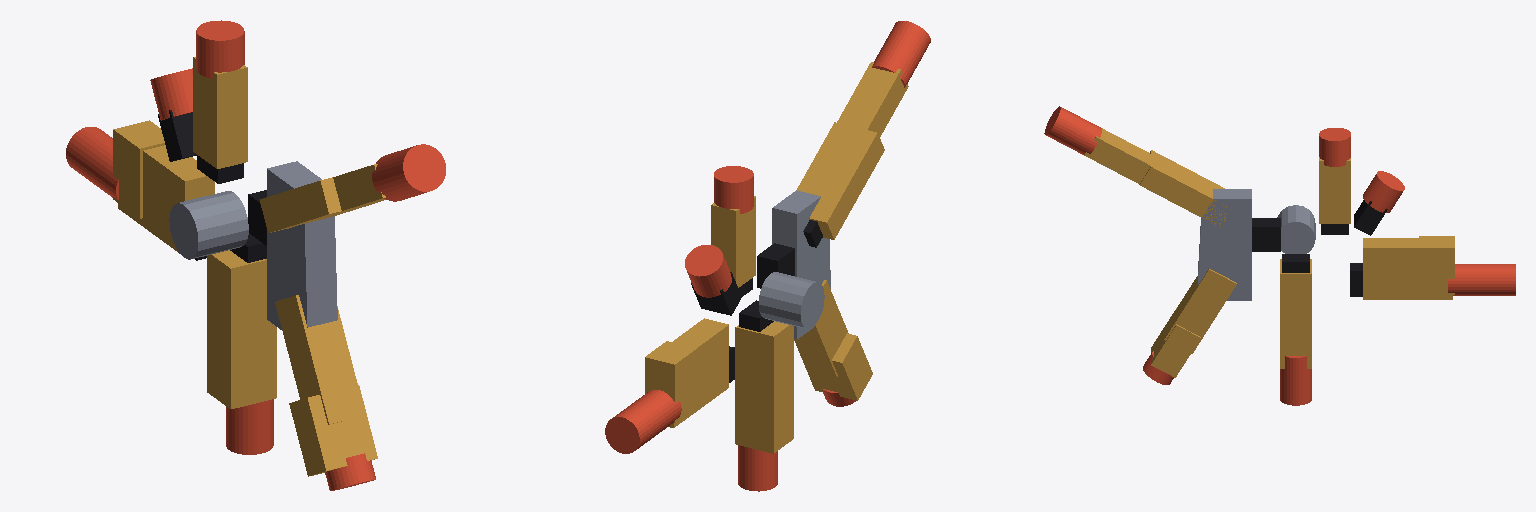
robot.urdf — g0009_c09:
<robot name="g0009_c09">
  <link name="palm">
    <visual name="palm_palm1">
      <origin xyz="0 0 0" rpy="0 0 0" />
      <geometry>
        <mesh filename="palm_palm1.obj" />
      </geometry>
      <material name="palm_palm1_mat">
        <color rgba="0.55 0.57 0.62 1" />
      </material>
    </visual>
    <collision>
      <origin xyz="0 0 0" rpy="0 0 0" />
      <geometry>
        <mesh filename="palm_palm1.obj" />
      </geometry>
    </collision>
    <visual name="palm_mount2">
      <origin xyz="0 0 0" rpy="0 0 0" />
      <geometry>
        <mesh filename="palm_mount2.obj" />
      </geometry>
      <material name="palm_mount2_mat">
        <color rgba="0.55 0.57 0.62 1" />
      </material>
    </visual>
    <collision>
      <origin xyz="0 0 0" rpy="0 0 0" />
      <geometry>
        <mesh filename="palm_mount2.obj" />
      </geometry>
    </collision>
    <visual name="palm_hinge3">
      <origin xyz="0 -0.0325 0.01" rpy="-0 -1.57079633 0" />
      <geometry>
        <box size="0.029 0.034 0.02" />
      </geometry>
      <material name="palm_hinge3_mat">
        <color rgba="0.15 0.15 0.17 1" />
      </material>
    </visual>
    <collision>
      <origin xyz="0 -0.0325 0.01" rpy="-0 -1.57079633 0" />
      <geometry>
        <box size="0.029 0.034 0.02" />
      </geometry>
    </collision>
    <visual name="palm_motor4">
      <origin xyz="0 -9.18485099e-19 -0.0325" rpy="1.57079633 1.2246468e-16 -1.57079633" />
      <geometry>
        <box size="0.029 0.034 0.02" />
      </geometry>
      <material name="palm_motor4_mat">
        <color rgba="0.15 0.15 0.17 1" />
      </material>
    </visual>
    <collision>
      <origin xyz="0 -9.18485099e-19 -0.0325" rpy="1.57079633 1.2246468e-16 -1.57079633" />
      <geometry>
        <box size="0.029 0.034 0.02" />
      </geometry>
    </collision>
    <visual name="palm_motor5">
      <origin xyz="0 0.04 0.0325" rpy="-1.57079633 -0 1.57079633" />
      <geometry>
        <box size="0.029 0.034 0.02" />
      </geometry>
      <material name="palm_motor5_mat">
        <color rgba="0.15 0.15 0.17 1" />
      </material>
    </visual>
    <collision>
      <origin xyz="0 0.04 0.0325" rpy="-1.57079633 -0 1.57079633" />
      <geometry>
        <box size="0.029 0.034 0.02" />
      </geometry>
    </collision>
    <visual name="palm_motor6">
      <origin xyz="0 0.0725 -0.04" rpy="-3.14159265 1.57079633 0" />
      <geometry>
        <box size="0.029 0.034 0.02" />
      </geometry>
      <material name="palm_motor6_mat">
        <color rgba="0.15 0.15 0.17 1" />
      </material>
    </visual>
    <collision>
      <origin xyz="0 0.0725 -0.04" rpy="-3.14159265 1.57079633 0" />
      <geometry>
        <box size="0.029 0.034 0.02" />
      </geometry>
    </collision>
    <visual name="palm_motor7">
      <origin xyz="-0.0045 0.07625 0.0335048095" rpy="-2.0943951 3.061617e-17 5.30287619e-17" />
      <geometry>
        <box size="0.029 0.034 0.02" />
      </geometry>
      <material name="palm_motor7_mat">
        <color rgba="0.15 0.15 0.17 1" />
      </material>
    </visual>
    <collision>
      <origin xyz="-0.0045 0.07625 0.0335048095" rpy="-2.0943951 3.061617e-17 5.30287619e-17" />
      <geometry>
        <box size="0.029 0.034 0.02" />
      </geometry>
    </collision>
    <inertial>
      <origin xyz="-2.27209935e-19 0.0285274423 -0.000656381946" rpy="1.57079633 -0.00980842685 1.57079633" />
      <mass value="0.611620892" />
      <inertia ixx="0.000673126079" ixy="0" ixz="0" iyy="0.00087661094" iyz="0" izz="0.00149102141" />
    </inertial>
  </link>
  <link name="palm0">
    <visual name="palm0_palm1">
      <origin xyz="0 0 0" rpy="0 0 0" />
      <geometry>
        <mesh filename="palm0_palm1.obj" />
      </geometry>
      <material name="palm0_palm1_mat">
        <color rgba="0.55 0.57 0.62 1" />
      </material>
    </visual>
    <collision>
      <origin xyz="0 0 0" rpy="0 0 0" />
      <geometry>
        <mesh filename="palm0_palm1.obj" />
      </geometry>
    </collision>
    <visual name="palm0_motor2">
      <origin xyz="0 -0.03625 -0.0435048095" rpy="1.57079633 -0.523598776 -1.57079633" />
      <geometry>
        <box size="0.029 0.034 0.02" />
      </geometry>
      <material name="palm0_motor2_mat">
        <color rgba="0.15 0.15 0.17 1" />
      </material>
    </visual>
    <collision>
      <origin xyz="0 -0.03625 -0.0435048095" rpy="1.57079633 -0.523598776 -1.57079633" />
      <geometry>
        <box size="0.029 0.034 0.02" />
      </geometry>
    </collision>
    <visual name="palm0_motor3">
      <origin xyz="-0.0045 -0.0335048095 0.02625" rpy="-0.523598776 -5.30287619e-17 3.061617e-17" />
      <geometry>
        <box size="0.029 0.034 0.02" />
      </geometry>
      <material name="palm0_motor3_mat">
        <color rgba="0.15 0.15 0.17 1" />
      </material>
    </visual>
    <collision>
      <origin xyz="-0.0045 -0.0335048095 0.02625" rpy="-0.523598776 -5.30287619e-17 3.061617e-17" />
      <geometry>
        <box size="0.029 0.034 0.02" />
      </geometry>
    </collision>
    <inertial>
      <origin xyz="0 -0.0298975672 -0.0109577386" rpy="-1.57079633 1.55926472 -1.57079633" />
      <mass value="0.242259017" />
      <inertia ixx="6.67330075e-05" ixy="0" ixz="0" iyy="0.000251976201" iyz="0" izz="0.000295452343" />
    </inertial>
  </link>
  <link name="f0_link0">
    <visual name="f0_link0_link1">
      <origin xyz="0.03375 0 -6.9388939e-18" rpy="0 4.06369831e-17 0" />
      <geometry>
        <box size="0.0915 0.029 0.033" />
      </geometry>
      <material name="f0_link0_link1_mat">
        <color rgba="0.80 0.62 0.30 1" />
      </material>
    </visual>
    <collision>
      <origin xyz="0.03375 0 -6.9388939e-18" rpy="0 4.06369831e-17 0" />
      <geometry>
        <box size="0.0915 0.029 0.033" />
      </geometry>
    </collision>
    <inertial>
      <origin xyz="0.03375 0 0" rpy="0 0 0" />
      <mass value="0.153239625" />
      <inertia ixx="2.46460397e-05" ixy="0" ixz="0" iyy="0.000120819867" iyz="0" izz="0.000117652915" />
    </inertial>
  </link>
  <link name="f0_link1">
    <visual name="f0_link1_link1">
      <origin xyz="0.014 -0.004 -2.08166817e-17" rpy="0 4.06369831e-17 0" />
      <geometry>
        <box size="0.052 0.041 0.029" />
      </geometry>
      <material name="f0_link1_link1_mat">
        <color rgba="0.80 0.62 0.30 1" />
      </material>
    </visual>
    <collision>
      <origin xyz="0.014 -0.004 -2.08166817e-17" rpy="0 4.06369831e-17 0" />
      <geometry>
        <box size="0.052 0.041 0.029" />
      </geometry>
    </collision>
    <inertial>
      <origin xyz="0.014 -0.004 0" rpy="0 0 0" />
      <mass value="0.108199" />
      <inertia ixx="2.27398232e-05" ixy="0" ixz="0" iyy="3.19637879e-05" iyz="0" izz="3.95377179e-05" />
    </inertial>
  </link>
  <link name="f0_link2">
    <visual name="f0_link2_link1">
      <origin xyz="0.014 0 -1.38777878e-17" rpy="-1.57079633 -0 -1.57079633" />
      <geometry>
        <cylinder radius="0.0165" length="0.019" />
      </geometry>
      <material name="f0_link2_link1_mat">
        <color rgba="0.85 0.35 0.25 1" />
      </material>
    </visual>
    <collision>
      <origin xyz="0.014 0 -1.38777878e-17" rpy="-1.57079633 -0 -1.57079633" />
      <geometry>
        <cylinder radius="0.0165" length="0.019" />
      </geometry>
    </collision>
    <inertial>
      <origin xyz="0.014 0 0" rpy="0 0 0" />
      <mass value="0.0613676745" />
      <inertia ixx="7.45718278e-06" ixy="0" ixz="0" iyy="1.32201625e-05" iyz="0" izz="1.32201625e-05" />
    </inertial>
  </link>
  <link name="f1_link0">
    <visual name="f1_link0_link1">
      <origin xyz="0.03625 -0.004 -7.80625564e-18" rpy="0 7.03853194e-17 0" />
      <geometry>
        <box size="0.0965 0.041 0.024" />
      </geometry>
      <material name="f1_link0_link1_mat">
        <color rgba="0.80 0.62 0.30 1" />
      </material>
    </visual>
    <collision>
      <origin xyz="0.03625 -0.004 -7.80625564e-18" rpy="0 7.03853194e-17 0" />
      <geometry>
        <box size="0.0965 0.041 0.024" />
      </geometry>
    </collision>
    <inertial>
      <origin xyz="0.03625 -0.004 0" rpy="0 0 0" />
      <mass value="0.166173" />
      <inertia ixx="3.12543718e-05" ixy="0" ixz="0" iyy="0.000136930014" iyz="0" izz="0.000152231778" />
    </inertial>
  </link>
  <link name="f1_link1">
    <visual name="f1_link1_link1">
      <origin xyz="0.0315 0 -1.73472348e-17" rpy="0 7.03853194e-17 0" />
      <geometry>
        <box size="0.096 0.029 0.024" />
      </geometry>
      <material name="f1_link1_link1_mat">
        <color rgba="0.80 0.62 0.30 1" />
      </material>
    </visual>
    <collision>
      <origin xyz="0.0315 0 -1.73472348e-17" rpy="0 7.03853194e-17 0" />
      <geometry>
        <box size="0.096 0.029 0.024" />
      </geometry>
    </collision>
    <inertial>
      <origin xyz="0.0315 0 0" rpy="0 0 0" />
      <mass value="0.116928" />
      <inertia ixx="1.3807248e-05" ixy="0" ixz="0" iyy="9.5413248e-05" iyz="0" izz="9.7995408e-05" />
    </inertial>
  </link>
  <link name="f1_link2">
    <visual name="f1_link2_link1">
      <origin xyz="0.029 0 -1.08420217e-17" rpy="-1.57079633 -0 -1.57079633" />
      <geometry>
        <cylinder radius="0.0165" length="0.049" />
      </geometry>
      <material name="f1_link2_link1_mat">
        <color rgba="0.85 0.35 0.25 1" />
      </material>
    </visual>
    <collision>
      <origin xyz="0.029 0 -1.08420217e-17" rpy="-1.57079633 -0 -1.57079633" />
      <geometry>
        <cylinder radius="0.0165" length="0.049" />
      </geometry>
    </collision>
    <inertial>
      <origin xyz="0.029 0 0" rpy="0 0 0" />
      <mass value="0.106270851" />
      <inertia ixx="1.35696277e-05" ixy="0" ixz="0" iyy="5.30015704e-05" iyz="0" izz="5.30015704e-05" />
    </inertial>
  </link>
  <link name="f2_link0">
    <visual name="f2_link0_link1">
      <origin xyz="0.04125 -0.00625 0" rpy="0 -0 0" />
      <geometry>
        <box size="0.1065 0.0365 0.033" />
      </geometry>
      <material name="f2_link0_link1_mat">
        <color rgba="0.80 0.62 0.30 1" />
      </material>
    </visual>
    <collision>
      <origin xyz="0.04125 -0.00625 0" rpy="0 -0 0" />
      <geometry>
        <box size="0.1065 0.0365 0.033" />
      </geometry>
    </collision>
    <inertial>
      <origin xyz="0.04125 -0.00625 0" rpy="0 0 0" />
      <mass value="0.224488688" />
      <inertia ixx="4.52952696e-05" ixy="0" ixz="0" iyy="0.00023255625" iyz="0" izz="0.000237106822" />
    </inertial>
  </link>
  <link name="f2_link1">
    <visual name="f2_link1_link1">
      <origin xyz="0.02675 0 7.70371978e-34" rpy="-1.57079633 -0 -1.57079633" />
      <geometry>
        <cylinder radius="0.0165" length="0.0535" />
      </geometry>
      <material name="f2_link1_link1_mat">
        <color rgba="0.85 0.35 0.25 1" />
      </material>
    </visual>
    <collision>
      <origin xyz="0.02675 0 7.70371978e-34" rpy="-1.57079633 -0 -1.57079633" />
      <geometry>
        <cylinder radius="0.0165" length="0.0535" />
      </geometry>
    </collision>
    <inertial>
      <origin xyz="0.02675 0 0" rpy="0 0 0" />
      <mass value="0.113006328" />
      <inertia ixx="1.44864944e-05" ixy="0" ixz="0" iyy="6.25996244e-05" iyz="0" izz="6.25996244e-05" />
    </inertial>
  </link>
  <link name="f3_link0">
    <visual name="f3_link0_link1">
      <origin xyz="0.02375 0 0" rpy="0 -0 0" />
      <geometry>
        <box size="0.0715 0.024 0.033" />
      </geometry>
      <material name="f3_link0_link1_mat">
        <color rgba="0.80 0.62 0.30 1" />
      </material>
    </visual>
    <collision>
      <origin xyz="0.02375 0 0" rpy="0 -0 0" />
      <geometry>
        <box size="0.0715 0.024 0.033" />
      </geometry>
    </collision>
    <inertial>
      <origin xyz="0.02375 0 0" rpy="0 0 0" />
      <mass value="0.099099" />
      <inertia ixx="1.37499863e-05" ixy="0" ixz="0" iyy="5.12114728e-05" iyz="0" izz="4.69749906e-05" />
    </inertial>
  </link>
  <link name="f3_link1">
    <visual name="f3_link1_link1">
      <origin xyz="0.019 0 0" rpy="-1.57079633 -0 -1.57079633" />
      <geometry>
        <cylinder radius="0.0165" length="0.029" />
      </geometry>
      <material name="f3_link1_link1_mat">
        <color rgba="0.85 0.35 0.25 1" />
      </material>
    </visual>
    <collision>
      <origin xyz="0.019 0 0" rpy="-1.57079633 -0 -1.57079633" />
      <geometry>
        <cylinder radius="0.0165" length="0.029" />
      </geometry>
    </collision>
    <inertial>
      <origin xyz="0.019 0 0" rpy="0 0 0" />
      <mass value="0.0763354" />
      <inertia ixx="9.49466441e-06" ixy="0" ixz="0" iyy="2.24143997e-05" iyz="0" izz="2.24143997e-05" />
    </inertial>
  </link>
  <link name="f4_link0">
    <visual name="f4_link0_link1">
      <origin xyz="0.03375 0 -0.01225" rpy="0 -0 0" />
      <geometry>
        <box size="0.0915 0.024 0.0575" />
      </geometry>
      <material name="f4_link0_link1_mat">
        <color rgba="0.80 0.62 0.30 1" />
      </material>
    </visual>
    <collision>
      <origin xyz="0.03375 0 -0.01225" rpy="0 -0 0" />
      <geometry>
        <box size="0.0915 0.024 0.0575" />
      </geometry>
    </collision>
    <inertial>
      <origin xyz="0.03375 0 -0.01225" rpy="0 0 0" />
      <mass value="0.2209725" />
      <inertia ixx="7.14892073e-05" ixy="0" ixz="0" iyy="0.000215052278" iyz="0" izz="0.000164776431" />
    </inertial>
  </link>
  <link name="f4_link1">
    <visual name="f4_link1_link1">
      <origin xyz="-0.00625 0 -0.0165" rpy="0 -0 0" />
      <geometry>
        <box size="0.0365 0.029 0.053" />
      </geometry>
      <material name="f4_link1_link1_mat">
        <color rgba="0.80 0.62 0.30 1" />
      </material>
    </visual>
    <collision>
      <origin xyz="-0.00625 0 -0.0165" rpy="0 -0 0" />
      <geometry>
        <box size="0.0365 0.029 0.053" />
      </geometry>
    </collision>
    <inertial>
      <origin xyz="-0.00625 0 -0.0165" rpy="0 0 0" />
      <mass value="0.098175875" />
      <inertia ixx="2.98618286e-05" ixy="0" ixz="0" iyy="3.38809035e-05" iyz="0" izz="1.778006e-05" />
    </inertial>
  </link>
  <link name="f4_link2">
    <visual name="f4_link2_link1">
      <origin xyz="0.039 0 0" rpy="-1.57079633 -0 -1.57079633" />
      <geometry>
        <cylinder radius="0.0165" length="0.069" />
      </geometry>
      <material name="f4_link2_link1_mat">
        <color rgba="0.85 0.35 0.25 1" />
      </material>
    </visual>
    <collision>
      <origin xyz="0.039 0 0" rpy="-1.57079633 -0 -1.57079633" />
      <geometry>
        <cylinder radius="0.0165" length="0.069" />
      </geometry>
    </collision>
    <inertial>
      <origin xyz="0.039 0 0" rpy="0 0 0" />
      <mass value="0.136206302" />
      <inertia ixx="1.76445909e-05" ixy="0" ixz="0" iyy="0.000104842911" iyz="0" izz="0.000104842911" />
    </inertial>
  </link>
  <link name="f5_link0">
    <visual name="f5_link0_link1">
      <origin xyz="0.019 0 6.9388939e-18" rpy="-1.57079633 -0 -1.57079633" />
      <geometry>
        <cylinder radius="0.0165" length="0.029" />
      </geometry>
      <material name="f5_link0_link1_mat">
        <color rgba="0.85 0.35 0.25 1" />
      </material>
    </visual>
    <collision>
      <origin xyz="0.019 0 6.9388939e-18" rpy="-1.57079633 -0 -1.57079633" />
      <geometry>
        <cylinder radius="0.0165" length="0.029" />
      </geometry>
    </collision>
    <inertial>
      <origin xyz="0.019 0 0" rpy="0 0 0" />
      <mass value="0.0763354" />
      <inertia ixx="9.49466441e-06" ixy="0" ixz="0" iyy="2.24143997e-05" iyz="0" izz="2.24143997e-05" />
    </inertial>
  </link>
  <joint name="palm0_joint" type="revolute">
    <parent link="palm" />
    <child link="palm0" />
    <origin xyz="0 -0.04 0.01" rpy="0 0 0" />
    <axis xyz="0 0 1" />
    <limit effort="0.5" lower="-0.523598776" upper="0.523598776" velocity="5" />
    <dynamics damping="0.0775033" friction="0" />
  </joint>
  <joint name="f0_j0" type="revolute">
    <parent link="palm0" />
    <child link="f0_link0" />
    <origin xyz="0 -0.04 -0.05" rpy="0 1.04719755 -1.57079633" />
    <axis xyz="0 0 1" />
    <limit effort="0.5" lower="-0.523598776" upper="1.57079633" velocity="5" />
    <dynamics damping="0.0775033" friction="0" />
  </joint>
  <joint name="f0_j1" type="revolute">
    <parent link="f0_link0" />
    <child link="f0_link1" />
    <origin xyz="0.07 0 0" rpy="0 0 0" />
    <axis xyz="0 1 6.123234e-17" />
    <limit effort="0.5" lower="-0.523598776" upper="0.523598776" velocity="5" />
    <dynamics damping="0.0775033" friction="0" />
  </joint>
  <joint name="f0_j2" type="revolute">
    <parent link="f0_link1" />
    <child link="f0_link2" />
    <origin xyz="0.03 0 0" rpy="0 0 0" />
    <axis xyz="0 0 1" />
    <limit effort="0.5" lower="-0.523598776" upper="1.57079633" velocity="5" />
    <dynamics damping="0.0775033" friction="0" />
  </joint>
  <joint name="f1_j0" type="revolute">
    <parent link="palm0" />
    <child link="f1_link0" />
    <origin xyz="-0.0045 -0.04 0.03" rpy="-0 -0.523598776 -1.57079633" />
    <axis xyz="-0 -1 -6.123234e-17" />
    <limit effort="0.5" lower="-0.523598776" upper="0.523598776" velocity="5" />
    <dynamics damping="0.0775033" friction="0" />
  </joint>
  <joint name="f1_j1" type="revolute">
    <parent link="f1_link0" />
    <child link="f1_link1" />
    <origin xyz="0.07 0 0" rpy="0 0 0" />
    <axis xyz="1 0 6.123234e-17" />
    <limit effort="0.5" lower="-1.57079633" upper="1.57079633" velocity="5" />
    <dynamics damping="0.0775033" friction="0" />
  </joint>
  <joint name="f1_j2" type="revolute">
    <parent link="f1_link1" />
    <child link="f1_link2" />
    <origin xyz="0.07 0 0" rpy="0 0 0" />
    <axis xyz="-0 -1 -6.123234e-17" />
    <limit effort="0.5" lower="-0.523598776" upper="0.523598776" velocity="5" />
    <dynamics damping="0.0775033" friction="0" />
  </joint>
  <joint name="f2_j0" type="revolute">
    <parent link="palm" />
    <child link="f2_link0" />
    <origin xyz="0 0 -0.04" rpy="1.57079633 1.57079633 0" />
    <axis xyz="0 0 1" />
    <limit effort="0.5" lower="-0.523598776" upper="1.57079633" velocity="5" />
    <dynamics damping="0.0775033" friction="0" />
  </joint>
  <joint name="f2_j1" type="revolute">
    <parent link="f2_link0" />
    <child link="f2_link1" />
    <origin xyz="0.08 0 0" rpy="0 0 0" />
    <axis xyz="1 0 6.123234e-17" />
    <limit effort="0.5" lower="-1.57079633" upper="1.57079633" velocity="5" />
    <dynamics damping="0.0775033" friction="0" />
  </joint>
  <joint name="f3_j0" type="revolute">
    <parent link="palm" />
    <child link="f3_link0" />
    <origin xyz="0 0.04 0.04" rpy="-1.57079633 -1.57079633 0" />
    <axis xyz="0 0 1" />
    <limit effort="0.5" lower="-0.523598776" upper="1.57079633" velocity="5" />
    <dynamics damping="0.0775033" friction="0" />
  </joint>
  <joint name="f3_j1" type="revolute">
    <parent link="f3_link0" />
    <child link="f3_link1" />
    <origin xyz="0.05 0 0" rpy="0 0 0" />
    <axis xyz="0 0 1" />
    <limit effort="0.5" lower="-0.523598776" upper="1.57079633" velocity="5" />
    <dynamics damping="0.0775033" friction="0" />
  </joint>
  <joint name="f4_j0" type="revolute">
    <parent link="palm" />
    <child link="f4_link0" />
    <origin xyz="0 0.08 -0.04" rpy="-3.14159265 -6.123234e-17 1.57079633" />
    <axis xyz="0 0 1" />
    <limit effort="0.5" lower="-0.523598776" upper="1.57079633" velocity="5" />
    <dynamics damping="0.0775033" friction="0" />
  </joint>
  <joint name="f4_j1" type="revolute">
    <parent link="f4_link0" />
    <child link="f4_link1" />
    <origin xyz="0.07 0 0" rpy="0 0 0" />
    <axis xyz="0 0 1" />
    <limit effort="0.5" lower="-0.523598776" upper="1.57079633" velocity="5" />
    <dynamics damping="0.0775033" friction="0" />
  </joint>
  <joint name="f4_j2" type="revolute">
    <parent link="f4_link1" />
    <child link="f4_link2" />
    <origin xyz="0 0 0" rpy="0 0 0" />
    <axis xyz="0 1 6.123234e-17" />
    <limit effort="0.5" lower="-0.523598776" upper="0.523598776" velocity="5" />
    <dynamics damping="0.0775033" friction="0" />
  </joint>
  <joint name="f5_j0" type="revolute">
    <parent link="palm" />
    <child link="f5_link0" />
    <origin xyz="-0.0045 0.08 0.04" rpy="-3.14159265 -1.04719755 1.57079633" />
    <axis xyz="-0 -1 -6.123234e-17" />
    <limit effort="0.5" lower="-0.523598776" upper="0.523598776" velocity="5" />
    <dynamics damping="0.0775033" friction="0" />
  </joint>
</robot>

--- What the picture shows (computed from the rendered views, not written in the file) ---
3 views of the same robot in one strip: view 1: azimuth 30°, elevation 25°; view 2: azimuth 150°, elevation 25°; view 3: azimuth 270°, elevation 25° (orthographic).
Model g0009_c09 with 16 links and 15 joints (15 revolute), rooted at palm, posed every joint at zero.
Links seen in each view (by area): view 1: f2_link0, palm, palm0, f0_link0, f3_link0, f0_link1, f4_link0, f1_link2, f4_link1, f1_link0, f3_link1, f4_link2 (+4 smaller); view 2: f2_link0, palm, f1_link0, palm0, f1_link1, f4_link0, f4_link2, f4_link1, f3_link0, f0_link0, f0_link1, f1_link2 (+3 smaller); view 3: palm0, palm, f4_link0, f2_link0, f1_link0, f0_link0, f4_link2, f4_link1, f3_link0, f1_link1, f1_link2, f0_link1 (+3 smaller).
Link boxes in pixels (left/top/right/bottom): f2_link0: left=207, top=250, right=276, bottom=408; palm: left=158, top=110, right=266, bottom=262; palm0: left=267, top=161, right=337, bottom=329; f0_link0: left=275, top=295, right=365, bottom=424; f3_link0: left=193, top=57, right=247, bottom=168; f0_link1: left=289, top=385, right=377, bottom=476; f4_link0: left=118, top=145, right=214, bottom=253; f1_link2: left=372, top=144, right=445, bottom=201; f4_link1: left=113, top=120, right=164, bottom=218; f1_link0: left=260, top=177, right=374, bottom=232; f3_link1: left=196, top=20, right=244, bottom=78; f4_link2: left=66, top=127, right=118, bottom=199; f2_link0: left=735, top=321, right=793, bottom=453; palm: left=691, top=243, right=824, bottom=382; f1_link0: left=797, top=122, right=884, bottom=239; palm0: left=772, top=190, right=830, bottom=338; f1_link1: left=821, top=62, right=908, bottom=158; f4_link0: left=669, top=318, right=728, bottom=427; f4_link2: left=605, top=390, right=681, bottom=453; f4_link1: left=645, top=341, right=696, bottom=422; f3_link0: left=711, top=196, right=755, bottom=287; f0_link0: left=794, top=280, right=848, bottom=377; f0_link1: left=800, top=333, right=872, bottom=400; f1_link2: left=872, top=21, right=930, bottom=87; palm0: left=1198, top=189, right=1251, bottom=300; palm: left=1252, top=200, right=1387, bottom=296; f4_link0: left=1363, top=238, right=1452, bottom=299; f2_link0: left=1280, top=259, right=1311, bottom=368; f1_link0: left=1139, top=150, right=1231, bottom=226; f0_link0: left=1164, top=269, right=1236, bottom=353; f4_link2: left=1448, top=264, right=1515, bottom=295; f4_link1: left=1419, top=236, right=1454, bottom=294; f3_link0: left=1319, top=157, right=1350, bottom=223; f1_link1: left=1084, top=128, right=1156, bottom=183; f1_link2: left=1044, top=106, right=1101, bottom=154; f0_link1: left=1151, top=308, right=1200, bottom=377.
Size in the robot's own frame: 0.0685 by 0.4793 by 0.3245 metres.
2 mesh visuals loaded from 3 distinct referenced files (2 OBJ); not drawn: 1 (reference not matched to a file when rendering).
